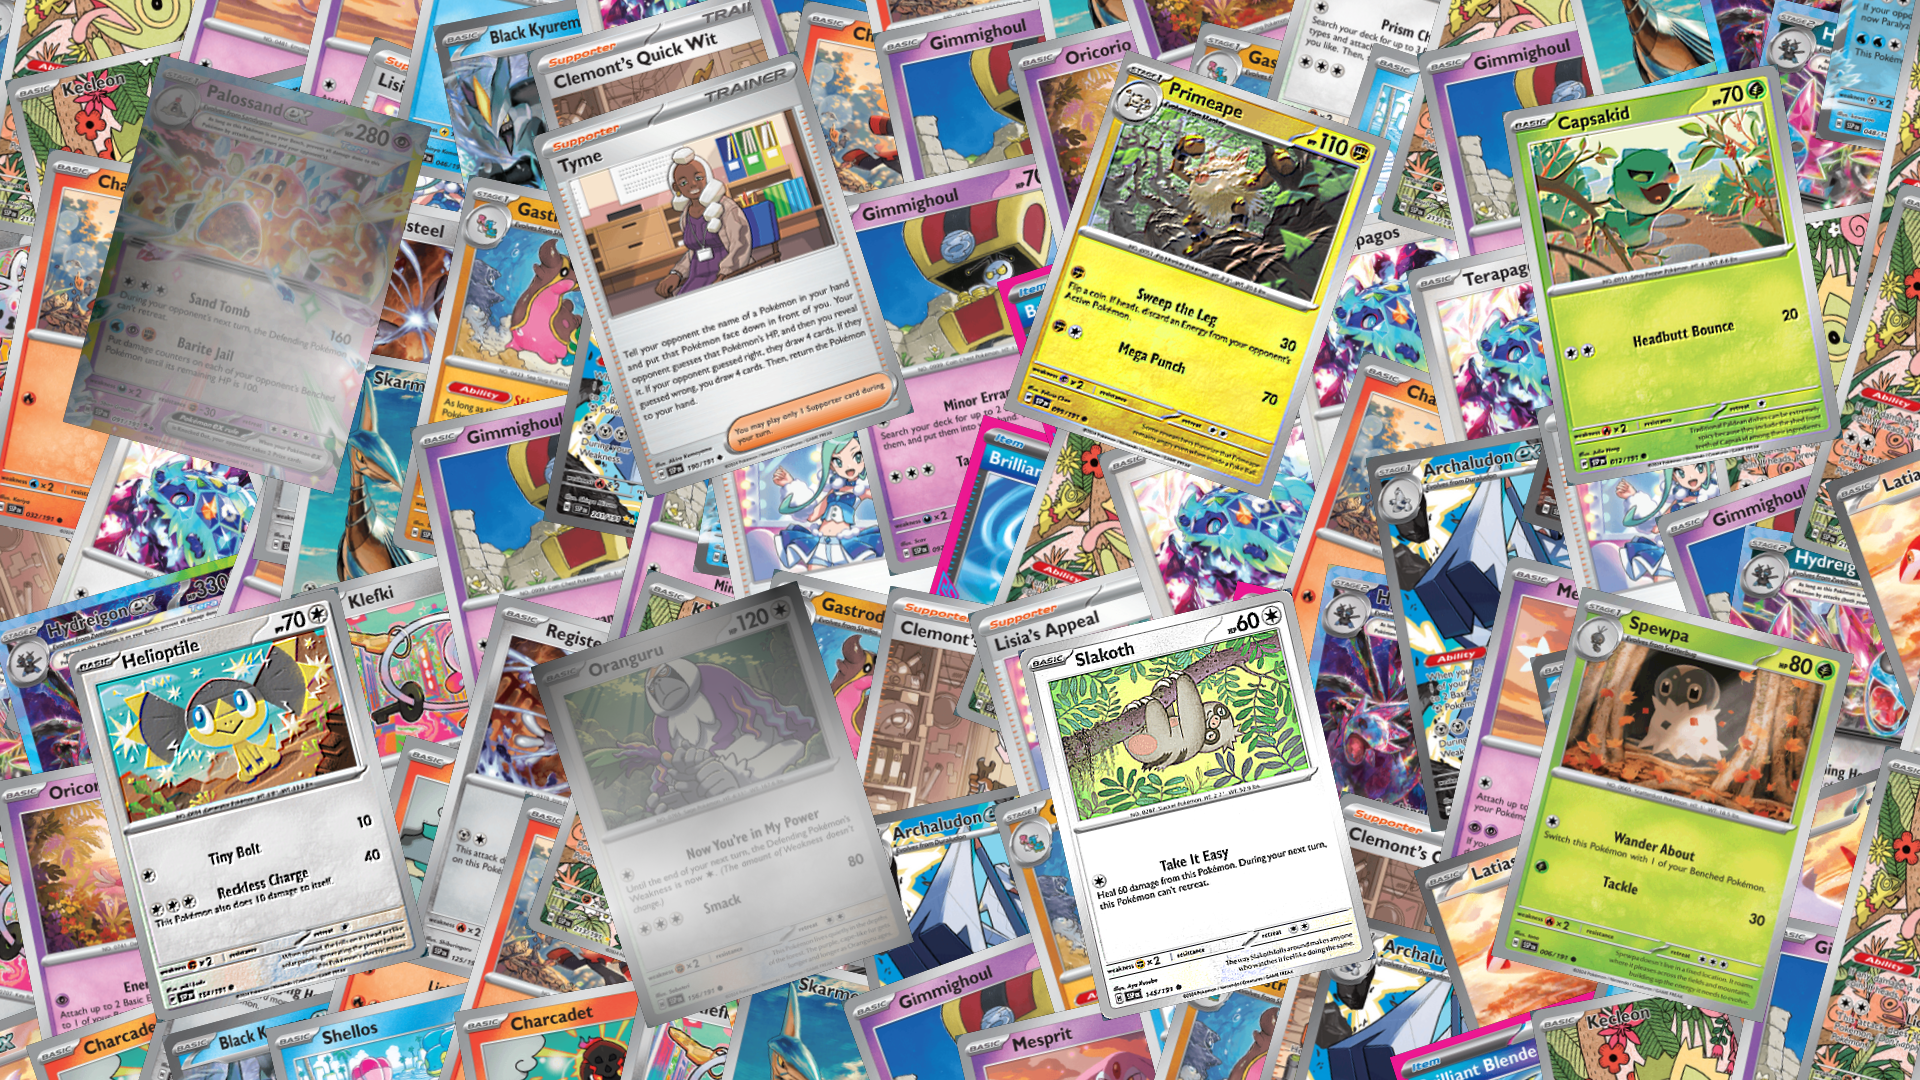Capsakid: (1501, 63, 1844, 487)
Helioptile: (65, 585, 429, 1023)
Oranguru: (530, 580, 914, 1029)
Palossand_ex: (62, 54, 431, 495)
Primeape: (1002, 49, 1391, 500)
Slakoth: (1017, 587, 1375, 1021)
Spewpa: (1490, 585, 1854, 1023)
Tyme: (530, 50, 914, 498)
